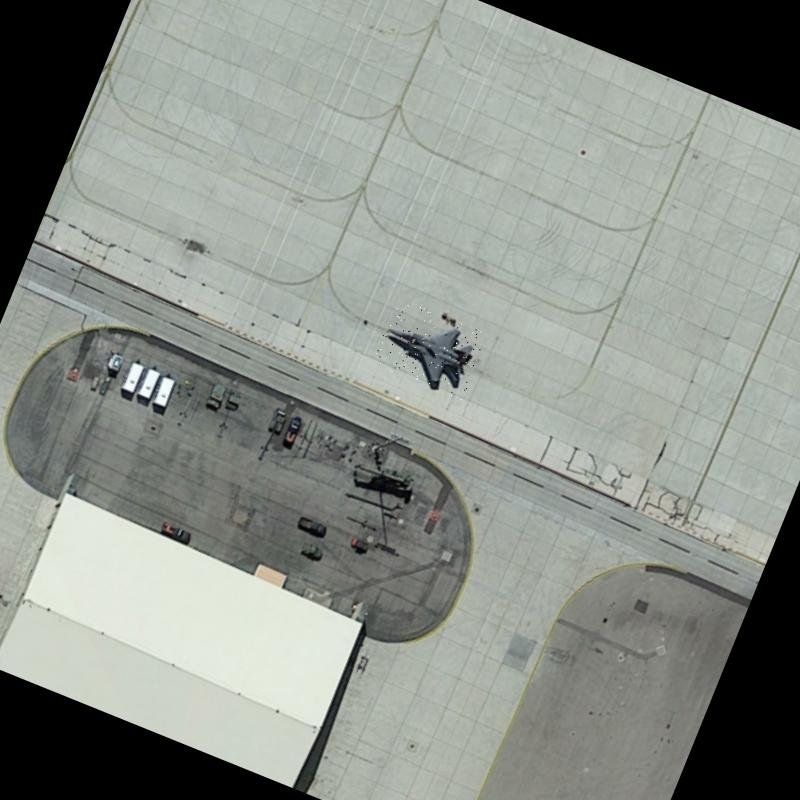A13: (371, 298, 488, 400)
